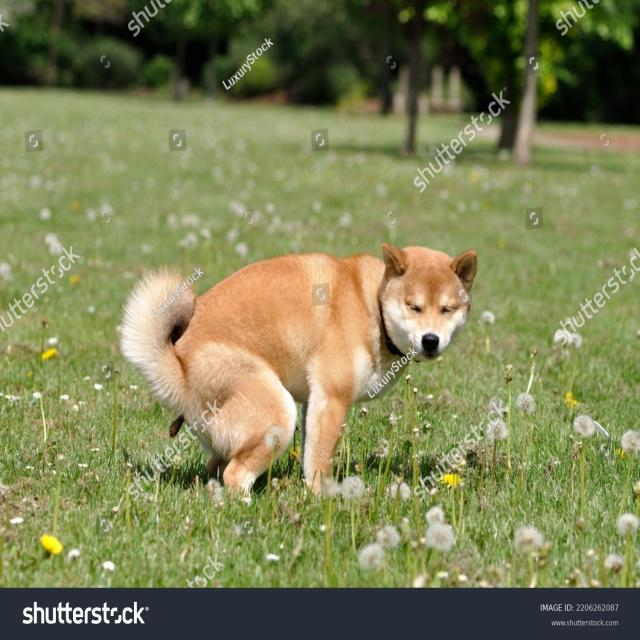Dogpoop: (118, 242, 481, 495)
